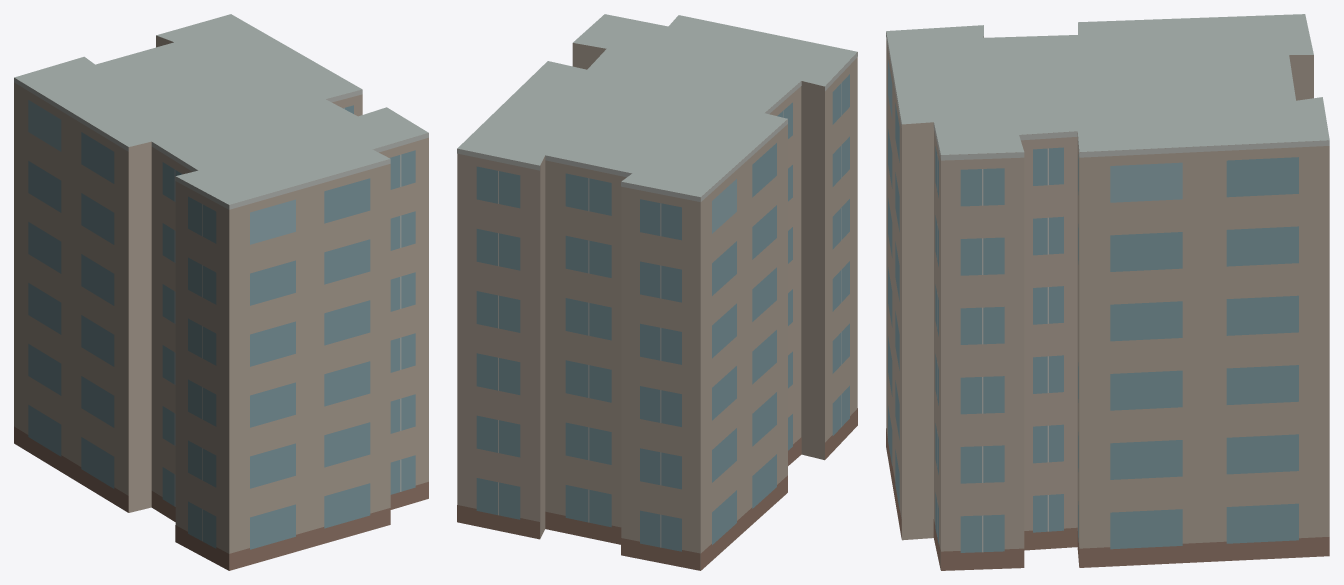
The model's file is survey-upis-33047244.glb.
3 views of the same model, side by side, from view 1: azimuth 30°, elevation 25°; view 2: azimuth 150°, elevation 25°; view 3: azimuth 270°, elevation 25° (orthographic). The views are drawn at different scales.
Parts seen in each view (by area): view 1: survey-upis-33047244.tmp; view 2: survey-upis-33047244.tmp; view 3: survey-upis-33047244.tmp.
Boxes of the visible parts, x1,y1,x2,y2 form: survey-upis-33047244.tmp: [14, 14, 428, 570]; survey-upis-33047244.tmp: [457, 14, 857, 570]; survey-upis-33047244.tmp: [886, 14, 1329, 570].
Bounding box in the file's own units: 13.33 × 18.3 × 17.71.
